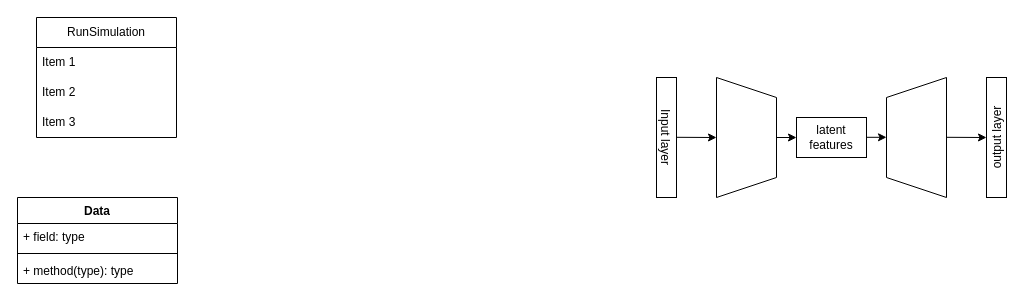
Some shapes in this 1032 by 304 pixel diagram are drawn without their labels. Here are the shapes that lost their labels. From the top down, the centre of each, then its label:
At (x=746, y=137): "LSTM-encoder".
At (x=916, y=137): "LSTM-decoder".
